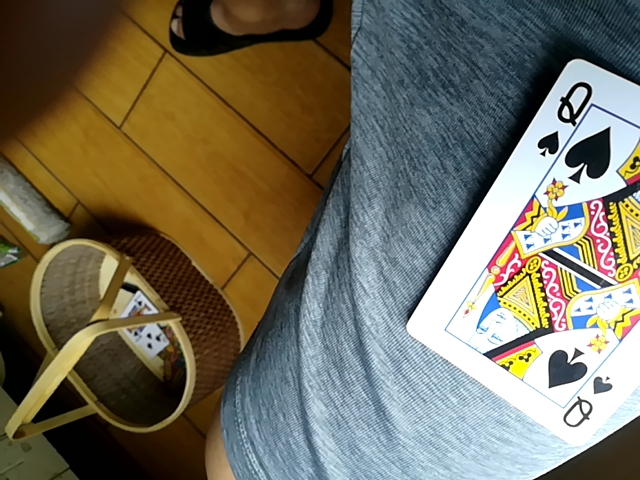ht q: (403, 60, 638, 465)
